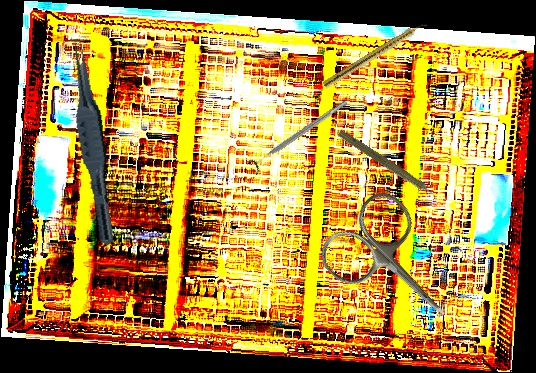Fixation Ring: (246, 94, 352, 176)
Handpiece: (334, 127, 444, 206), (322, 19, 429, 91)
Iris Scissors: (312, 184, 479, 351)
Tissue Forceps: (60, 37, 127, 247)
